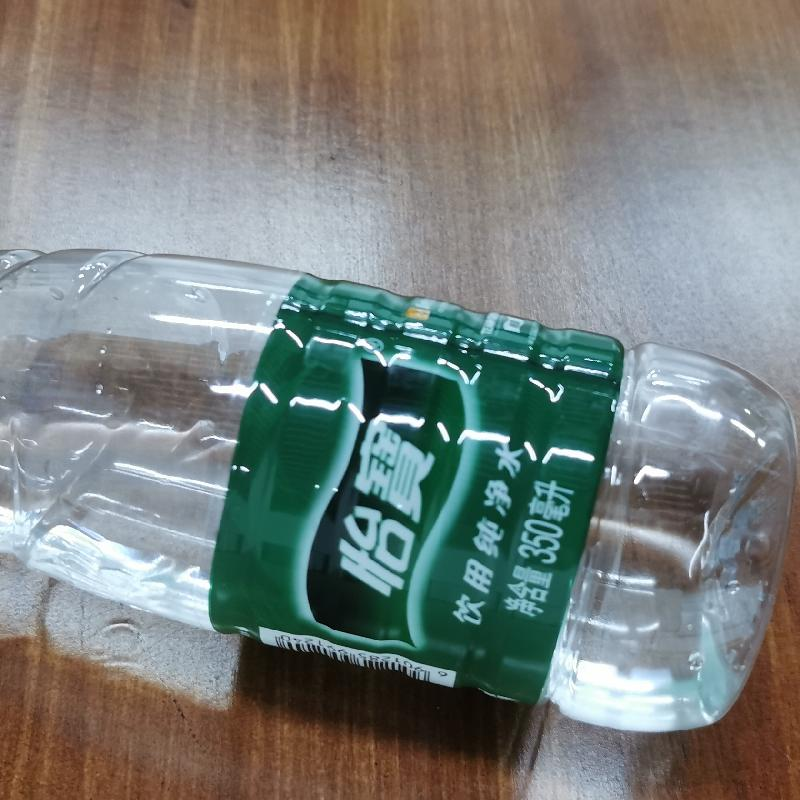bottles: (2, 234, 799, 732)
